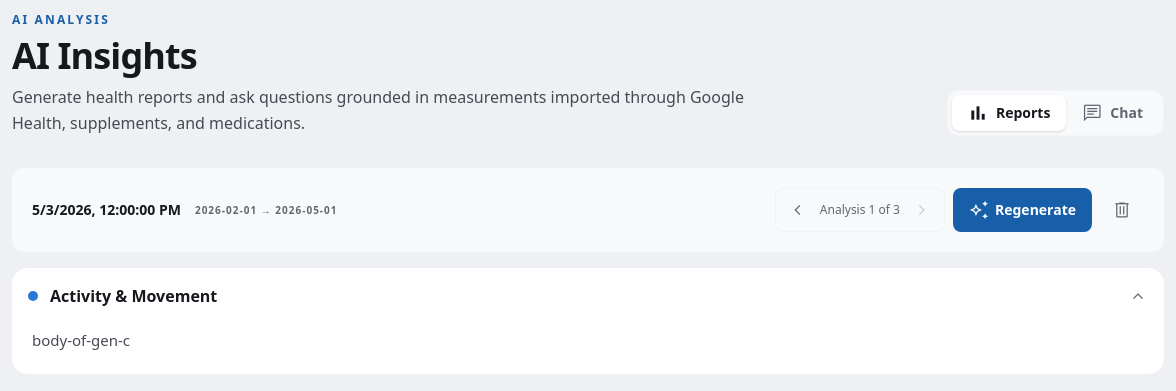
Test case: Insights page › active selection follows the generation by id, not list index
Expected: the text "body-of-gen-c" is shown, [32,330,130,350]
Click the button named "older analysis".
click(798, 210)  # box [780,192,816,228]
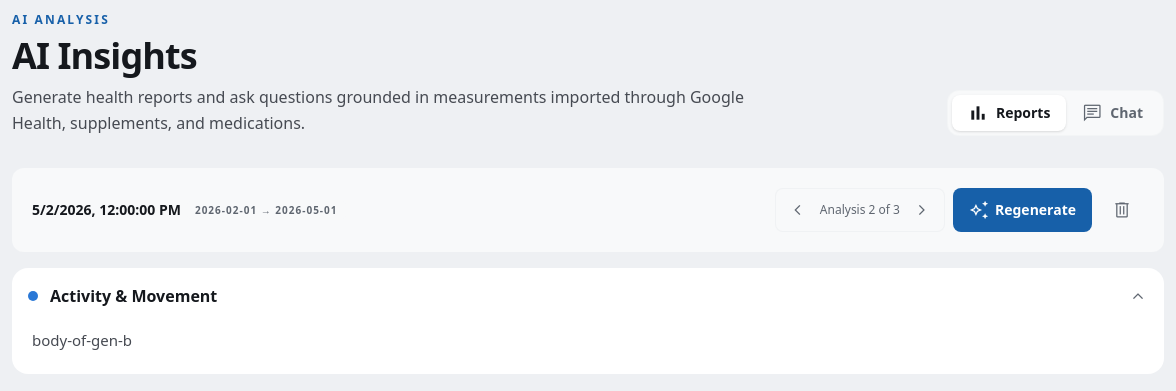
Result: the text "body-of-gen-b" is shown at [32,330,132,350]
